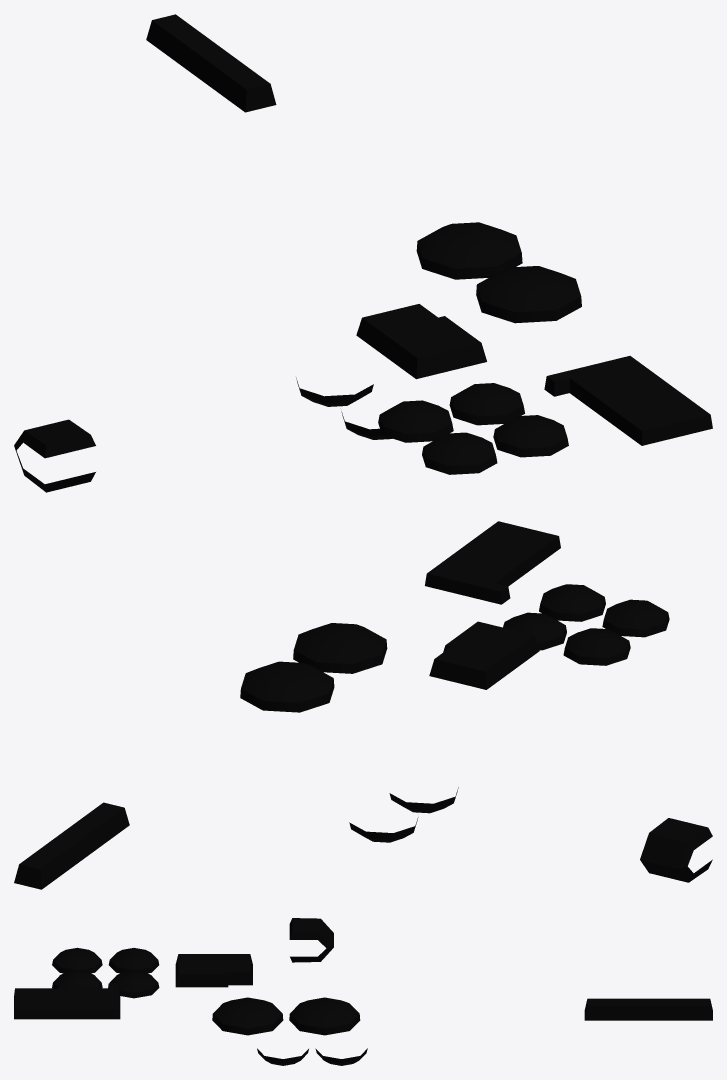
The model's file is prop_static_tr1_container_01_11.glb.
3 views of the same model, one above another, from view 1: azimuth 30°, elevation 25°; view 2: azimuth 150°, elevation 25°; view 3: azimuth 270°, elevation 25° (orthographic). The views are drawn at different scales.
Parts seen in each view (by area): view 1: tr1_container_01_11_mat01a_LOD0; view 2: tr1_container_01_11_mat01a_LOD0; view 3: tr1_container_01_11_mat01a_LOD0.
Boxes of the visible parts, <box> form: tr1_container_01_11_mat01a_LOD0: <box>14,14,712,492</box>; tr1_container_01_11_mat01a_LOD0: <box>14,521,712,889</box>; tr1_container_01_11_mat01a_LOD0: <box>14,918,712,1065</box>.
Size of what is drawn, in the model's own units: 2.84 by 0.8006 by 5.32.
1 material, 1 textured.
